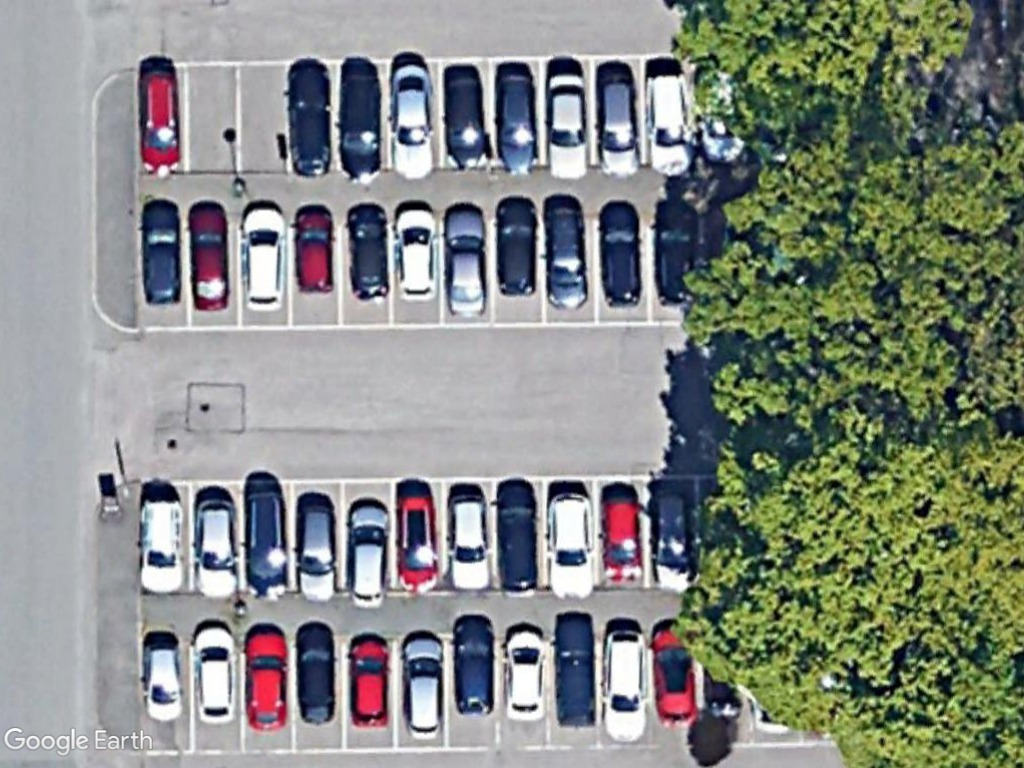car: (434, 198, 493, 325), (599, 623, 656, 749), (386, 55, 441, 183), (282, 60, 339, 182), (239, 480, 294, 606), (132, 58, 188, 181), (490, 476, 545, 600), (646, 195, 705, 309), (545, 487, 602, 604), (338, 496, 397, 608), (549, 610, 603, 731), (335, 62, 388, 185), (642, 64, 697, 181), (541, 67, 594, 185), (539, 195, 592, 313), (186, 618, 241, 731), (190, 491, 244, 606), (183, 195, 235, 313), (133, 490, 188, 600), (445, 609, 499, 721), (489, 63, 542, 177), (343, 195, 397, 306), (397, 632, 451, 743), (239, 202, 291, 317), (439, 65, 492, 176), (393, 484, 445, 596), (241, 623, 293, 735), (594, 71, 646, 182), (291, 496, 342, 609), (497, 624, 553, 726), (387, 202, 442, 305), (595, 199, 646, 310), (292, 618, 343, 729), (491, 192, 541, 302), (444, 487, 495, 594), (598, 489, 651, 591), (140, 194, 185, 313), (344, 633, 394, 734), (139, 634, 190, 732), (288, 203, 339, 299)
